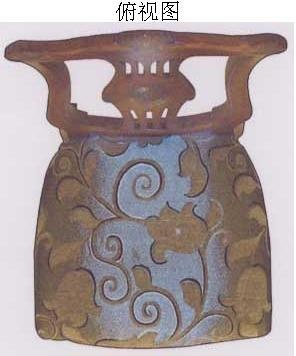obstacle: (5, 30, 286, 347)
